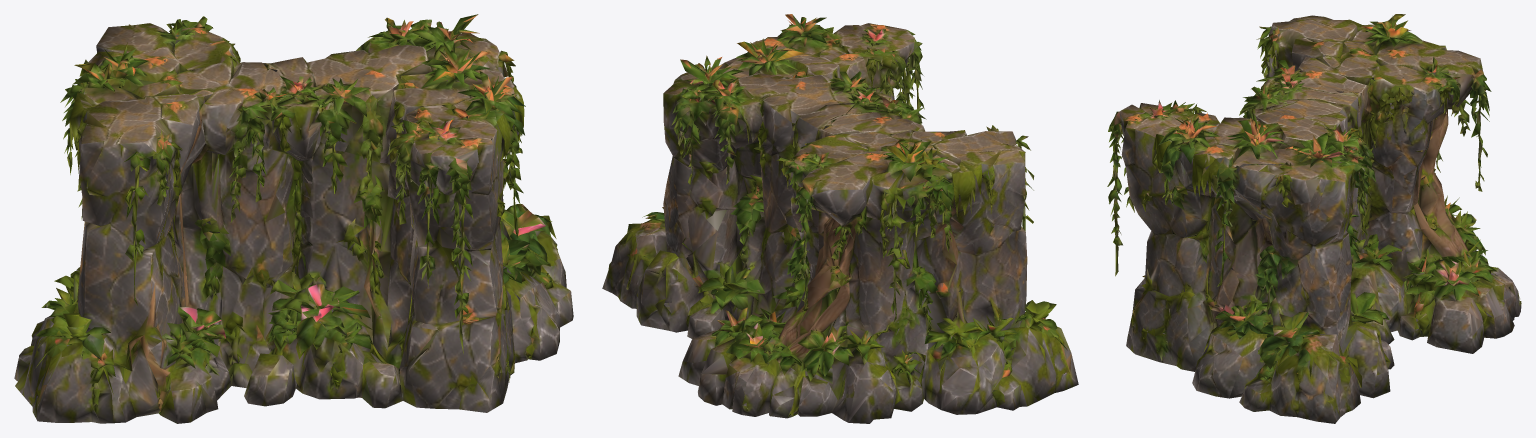
Rendered from stone_ruins.glb.
The picture shows the model from 3 angles, left to right: view 1: azimuth 30°, elevation 25°; view 2: azimuth 150°, elevation 25°; view 3: azimuth 270°, elevation 25°; orthographic projection. The views are drawn at different scales.
Visible parts, largest first — view 1: Mesh_0; view 2: Mesh_0; view 3: Mesh_0.
Boxes of the visible parts, x1,y1,x2,y2 form: Mesh_0: [14, 14, 573, 423]; Mesh_0: [602, 14, 1078, 423]; Mesh_0: [1107, 14, 1521, 423].
Size of the model in its own units: 1.9 by 0.9886 by 1.53.
Materials: 1 (1 with a texture image).
